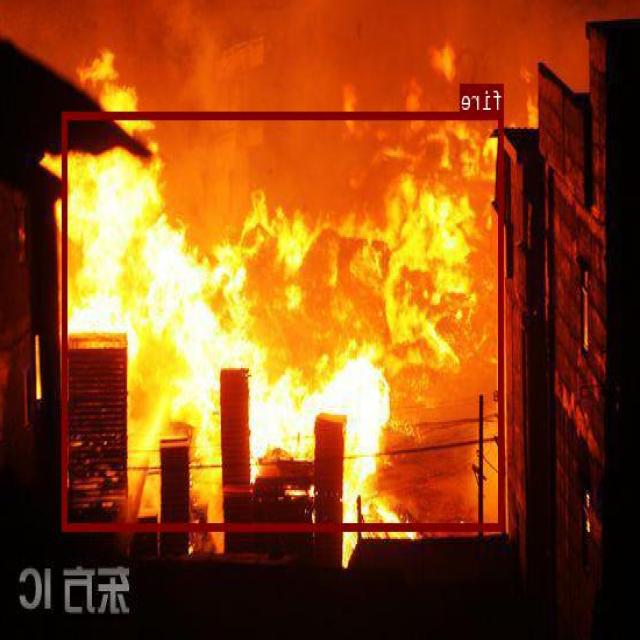fire: (63, 110, 505, 528)
